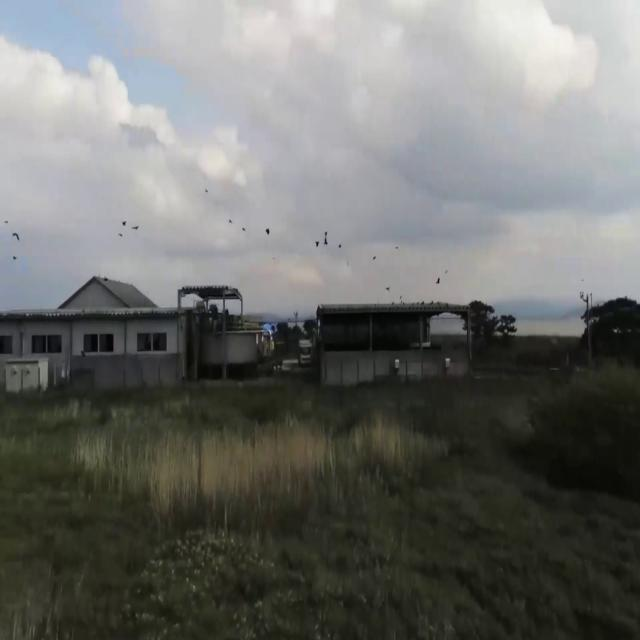bird: (12, 224, 20, 248), (130, 217, 139, 238)
